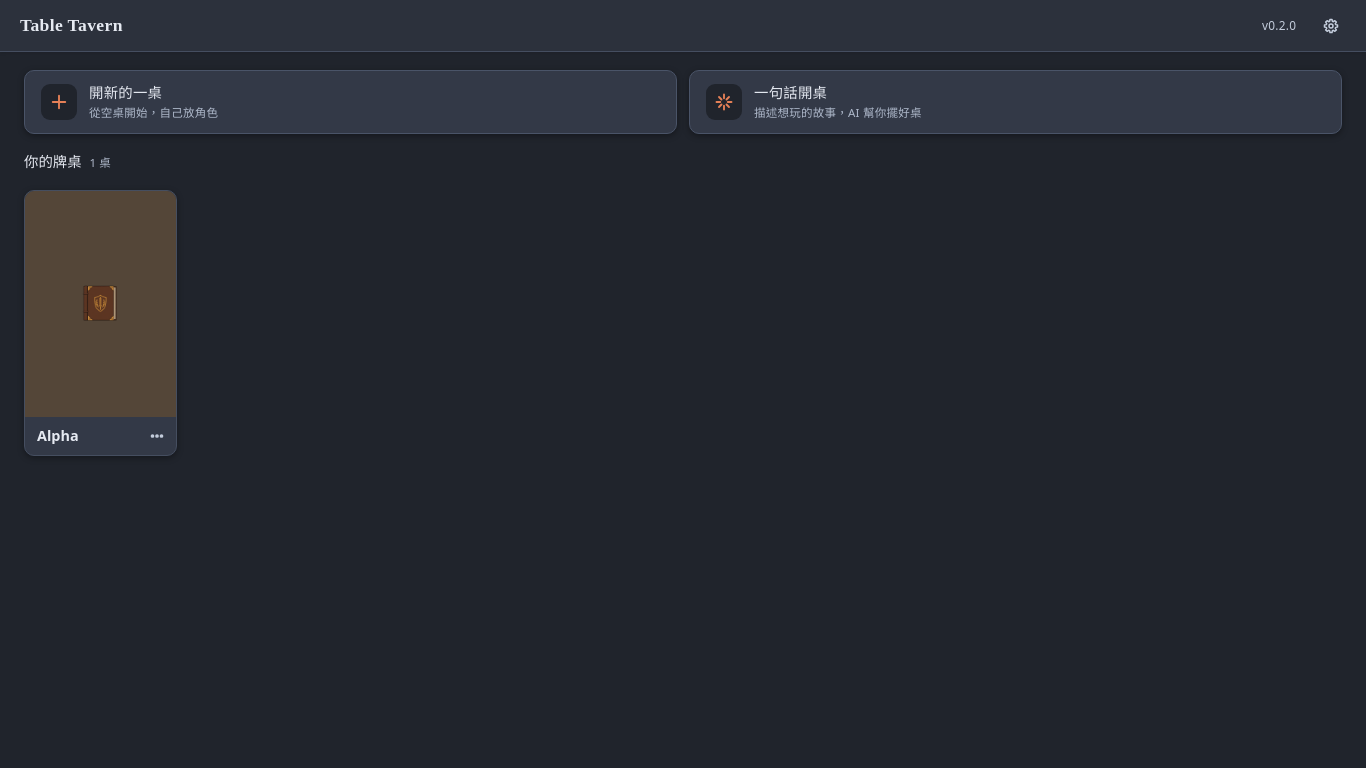
Test case: lobby and table navigation › focus after an archived row disappears › tabbing out of the panel closes it
The width and height of the screenshot is (1366, 768).
Step 1. Click the button named "進入 Alpha" → x=100, y=304, box left=25, top=191, right=176, bottom=417
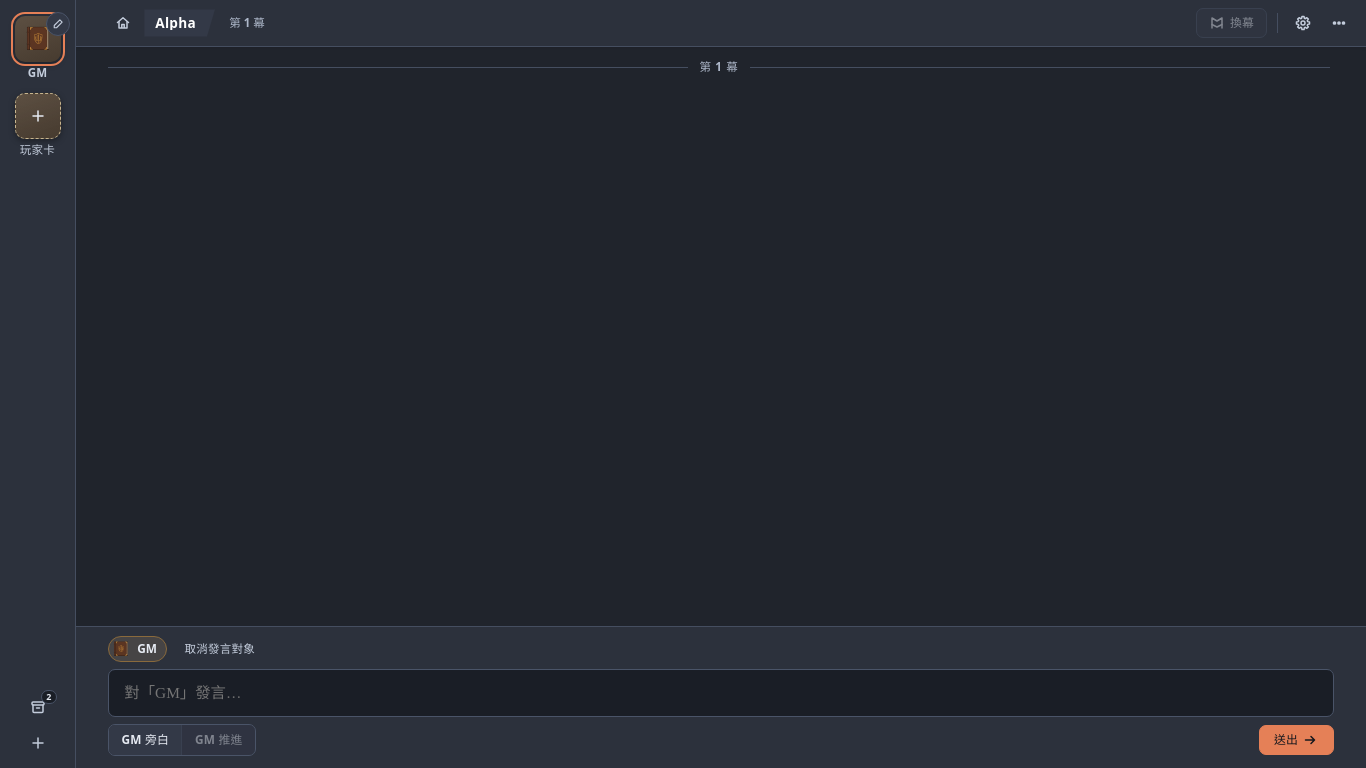
Step 2. Click the button with class "rail-archive-btn" → x=38, y=707, box left=22, top=692, right=52, bottom=722
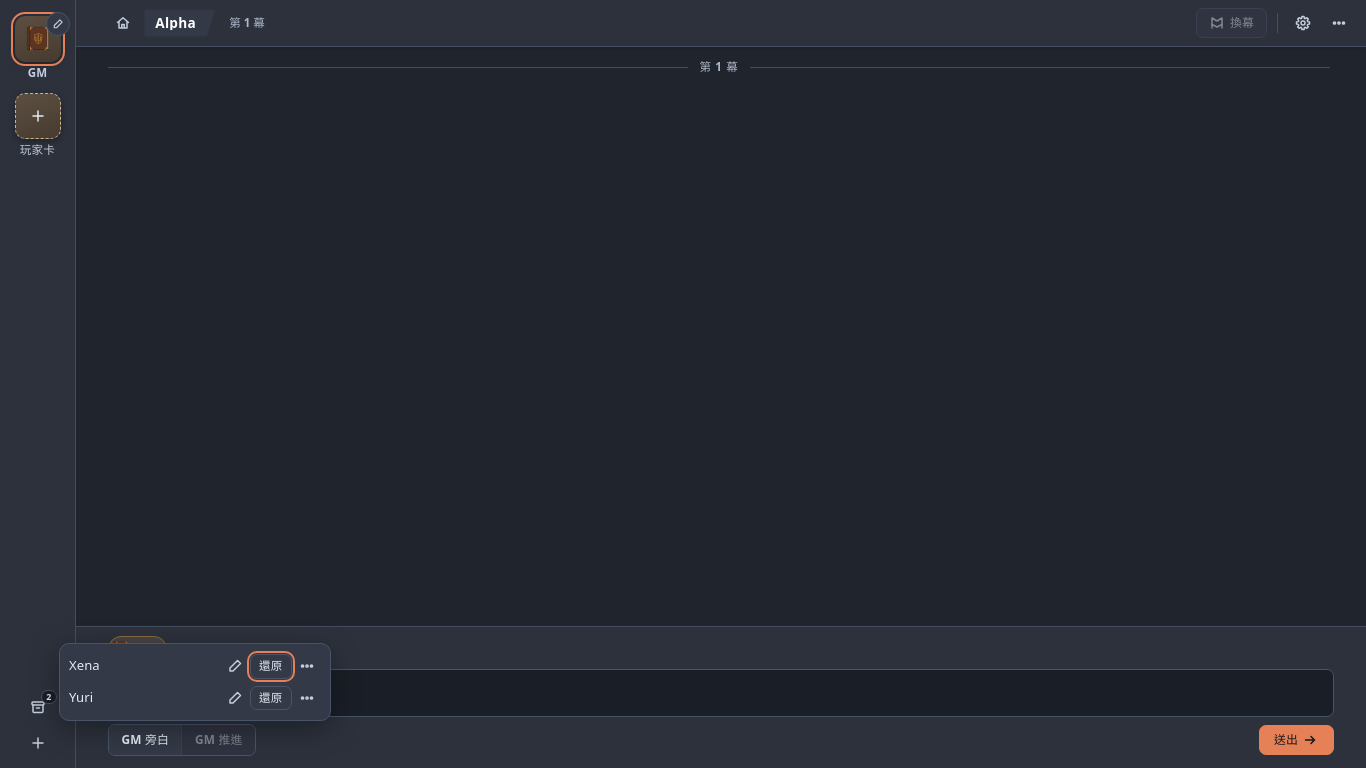
Step 3. Leave the button "還原" next to "Xena", box left=250, top=654, right=292, bottom=678
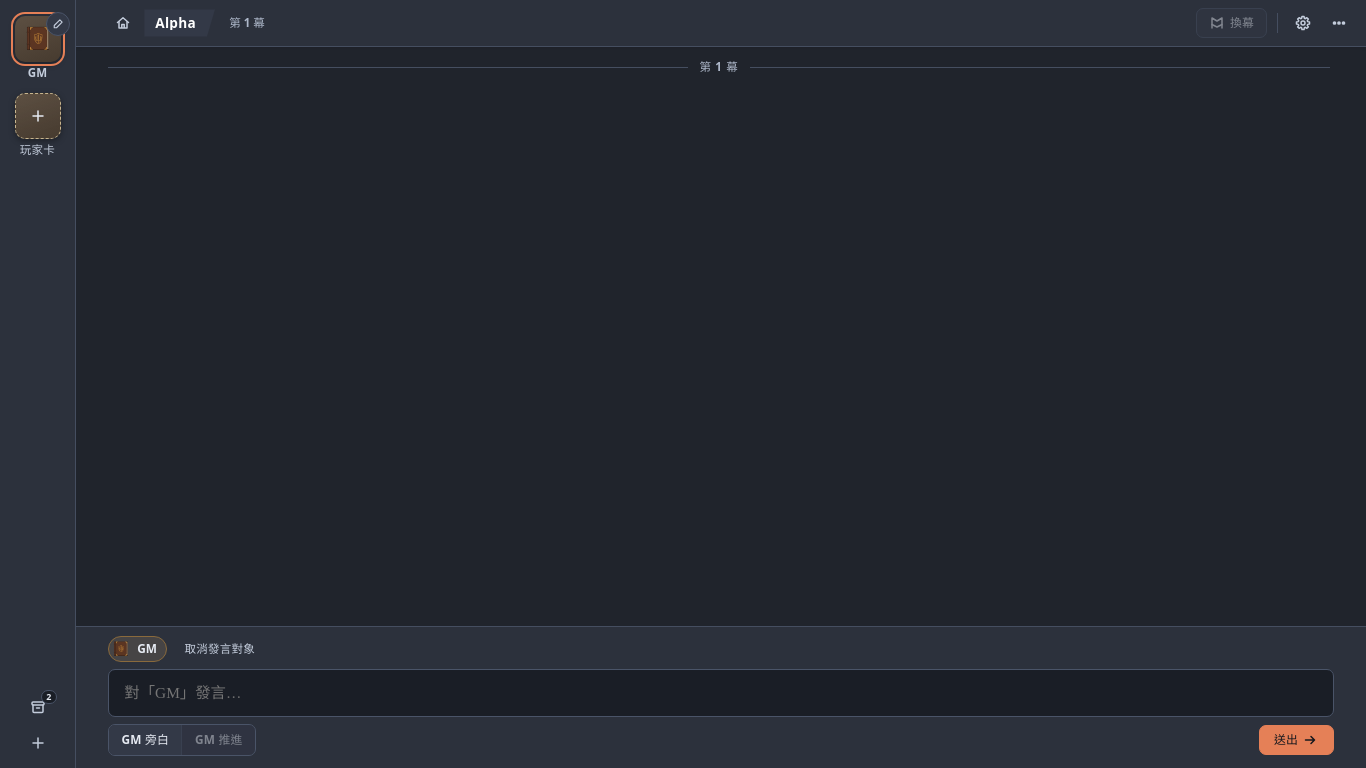
Result: the dialog with class "archive-popover" is gone
